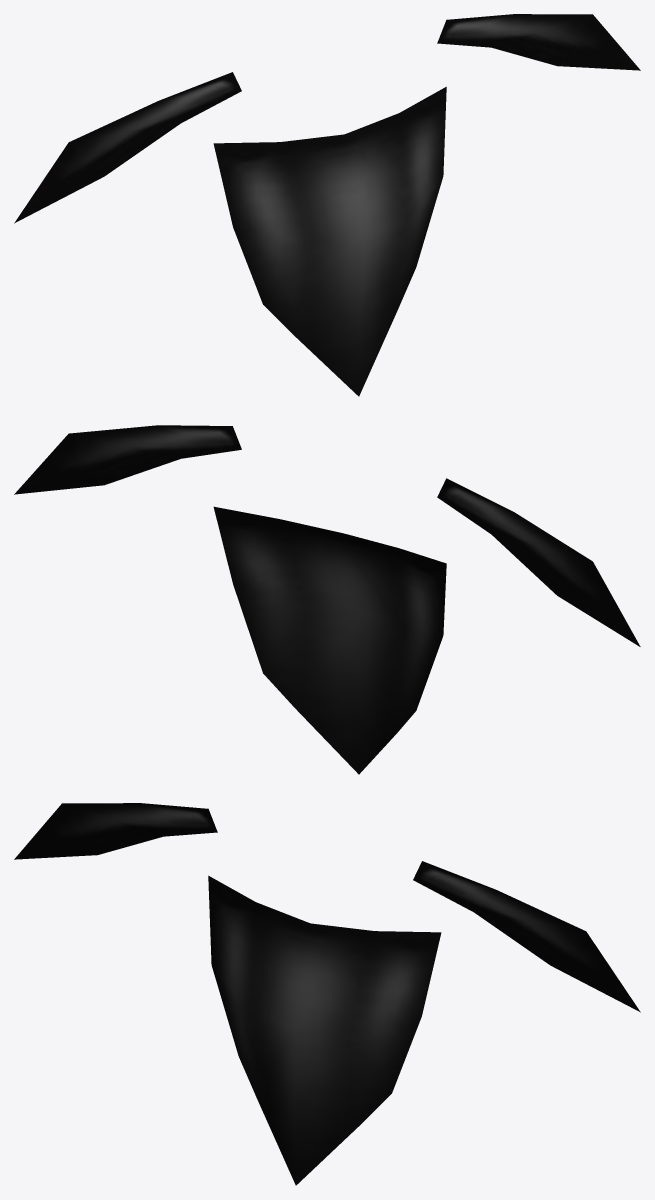
File: m_b_jojo.FBX
3 views of the same model, one above another, from view 1: azimuth 30°, elevation 25°; view 2: azimuth 150°, elevation 25°; view 3: azimuth 330°, elevation 25° (orthographic).
Parts seen in each view (by area): view 1: beard; view 2: beard; view 3: beard.
Part boxes in pixels (box(x1,y1,x2,y2)): beard: box(14, 14, 640, 396); beard: box(14, 425, 640, 774); beard: box(14, 803, 640, 1185).
Size of the model in its own units: 5.12 by 2.63 by 0.4875.
